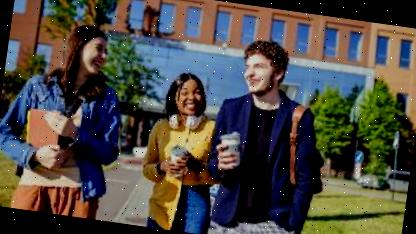person: (195, 28, 343, 234), (0, 9, 138, 221), (131, 63, 234, 234)
